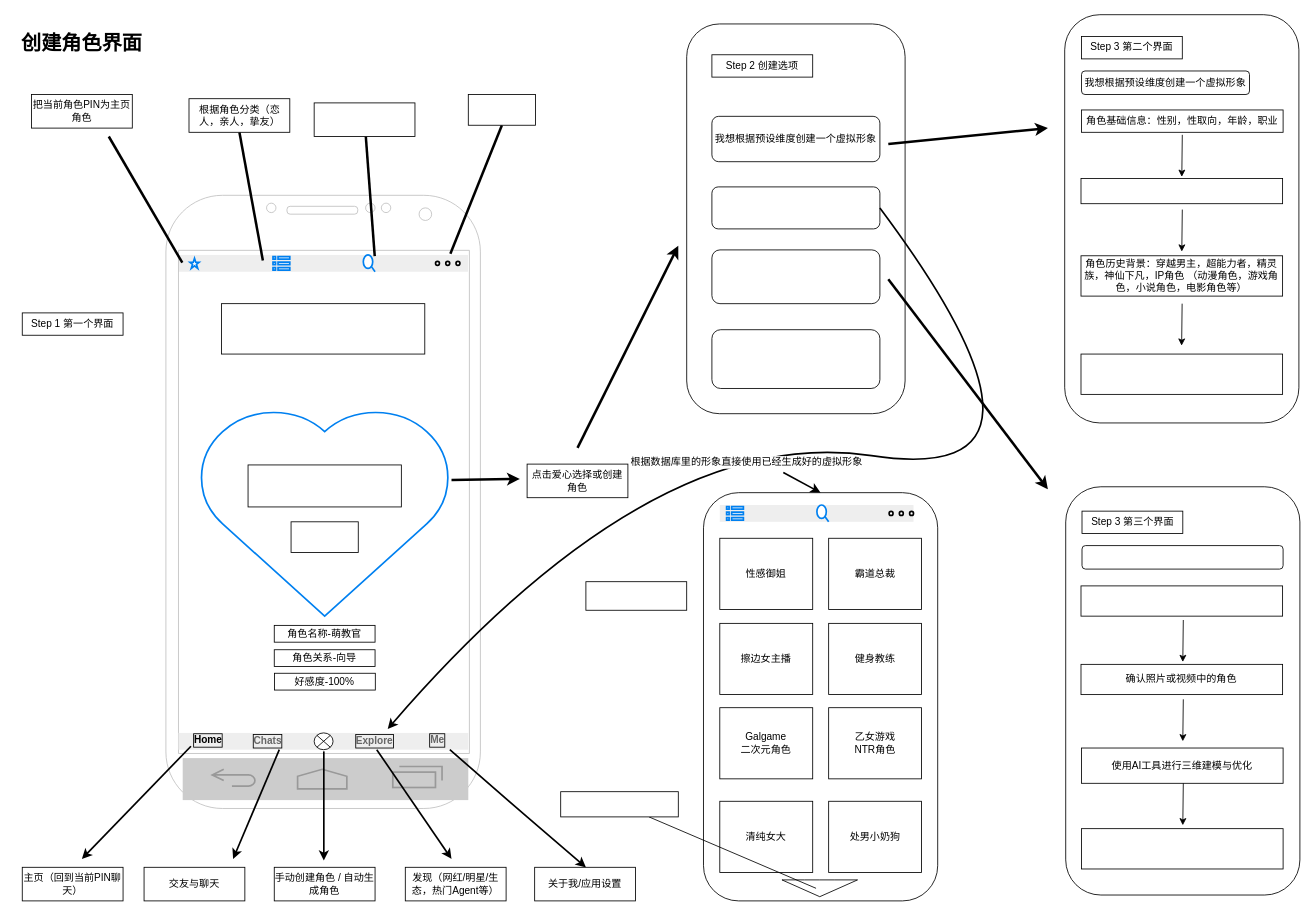
The diagram is 1315 pixels wide and 916 high, and some of its shapes have lost their labels. Here are the shapes that lost their labels. From the top down, the centre of each, then its label:
At point (364, 119): "搜索角色（包含自建角色与开放角色）".
At point (501, 109): "打开角色列表".
At point (795, 207): "我想直接选择一个已经创建好的虚拟形象".
At point (1181, 191): "角色性格偏向：MBTI 16型人格，语言风格（男性x5 女性x5 ），一共160种性格".
At point (795, 276): "我想根据我的照片或者视频手动生成一个定制化虚拟形象（VIP）".
At point (323, 328): "欢迎来到小暖陪伴的魔法世界！".
At point (795, 358): "我想从我已有的数据库中导入我的虚拟形象 （已有账户的情况）".
At point (1181, 373): "角色经历：叛逃的富家女，战场前线军需官，穿越世界的天选之子，异世界生物".
At point (324, 485): "你还没有相应的角色哦，请点击创建你的专属角色吧！".
At point (324, 537): "新手教学NPC形象".
At point (1182, 557): "我想根据我的照片或视频创建一个虚拟形象".
At point (636, 595): "Step 3 第三个界面 （参考通译千问）".
At point (1181, 600): "选择3-5张照片或1-2个视频".
At point (619, 804): "更多角色（小精灵，宠物，皮卡丘，幻兽帕鲁）".
At point (1182, 848): "请编辑一段话输入你对TA的认知（性格，兴趣爱好，职业情况，关键人生事件，跟用户之间的关系或者发生的事件）".
